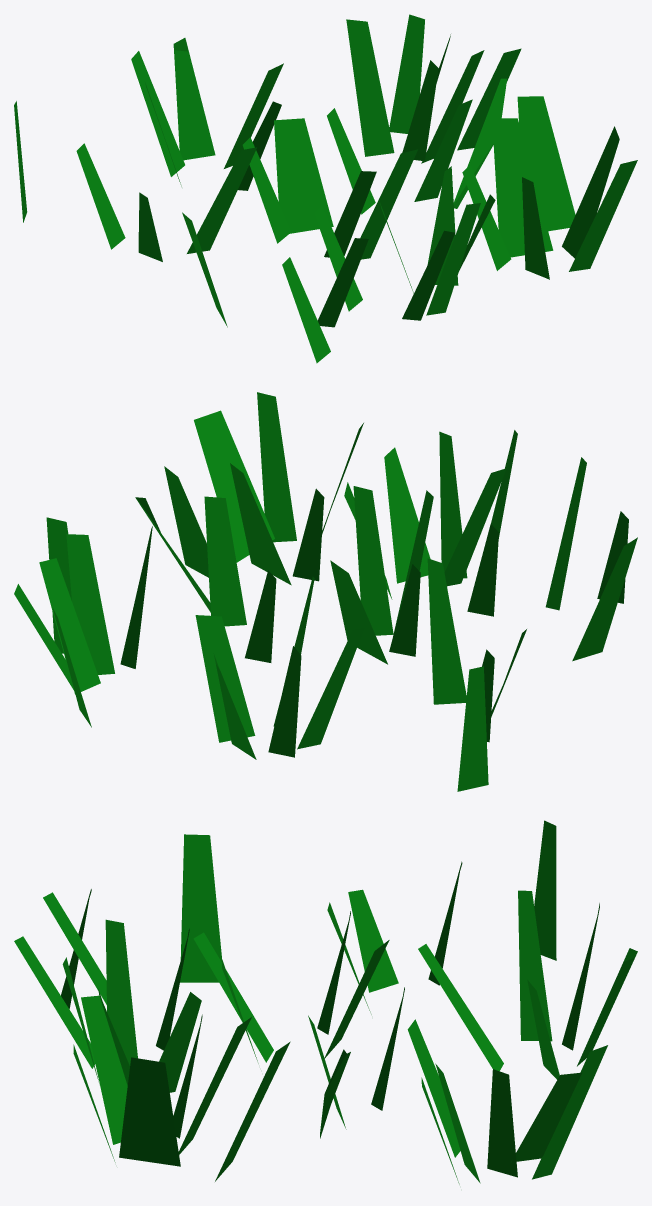
Rendered from grasscutmiddle.glb.
3 renders of one model, top to bottom at view 1: azimuth 30°, elevation 25°; view 2: azimuth 150°, elevation 25°; view 3: azimuth 270°, elevation 25°, orthographic. The views are drawn at different scales.
Visible parts, largest first — view 1: Blade1.023; view 2: Blade1.023; view 3: Blade1.023.
Part boxes in pixels (left/top/right/bottom): Blade1.023: left=14, top=14, right=637, bottom=363; Blade1.023: left=14, top=392, right=637, bottom=791; Blade1.023: left=14, top=820, right=637, bottom=1184.
Bounding box in the file's own units: 19.13 × 5.68 × 20.18.
